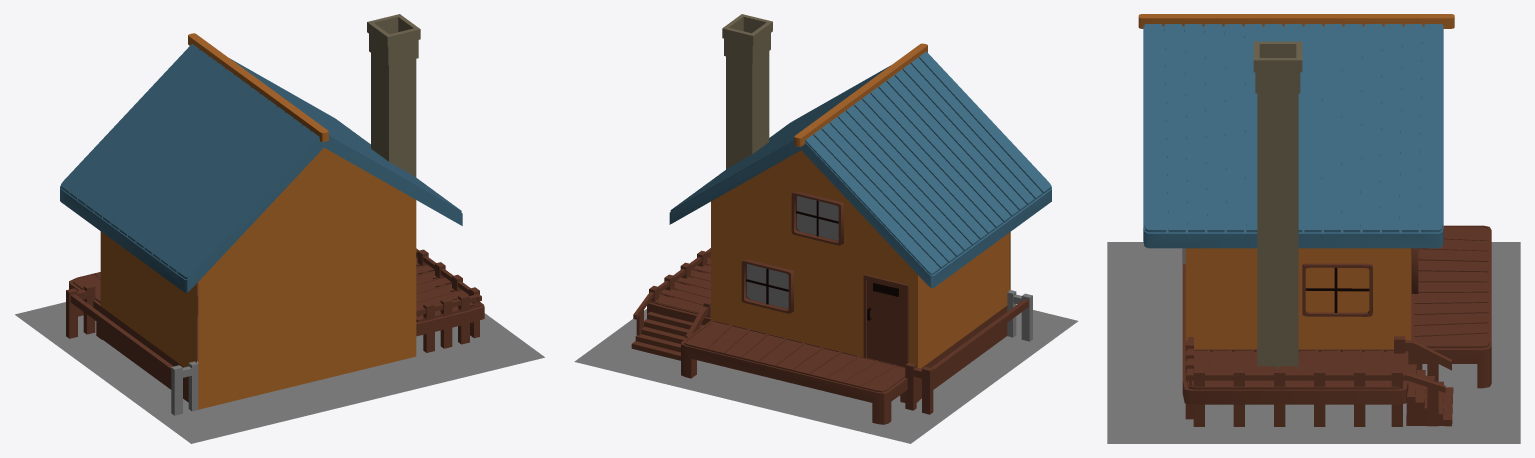
Rendered from House-1.fbx.
The picture shows the model from 3 angles, left to right: view 1: azimuth 30°, elevation 25°; view 2: azimuth 150°, elevation 25°; view 3: azimuth 270°, elevation 25°; orthographic projection. The views are drawn at different scales.
Parts seen in each view (by area): view 1: Box001, Box002, Plane001, Object001, Box041, Box040, Box035, Box037, Box033; view 2: Box002, Object001, Plane001, Box001, Box041, Box003, Box007, Box046, StraightStair001, Box040, Box035, Box033 (+3 smaller); view 3: Box002, Plane001, Object001, Box001, Box041, Box040, StraightStair001, Box024, Box049, Box043, Box020, Box018 (+5 smaller).
Boxes of the visible parts, bbox=[...] form: Box001: bbox=[69, 147, 484, 409]; Box002: bbox=[60, 43, 462, 292]; Plane001: bbox=[15, 302, 544, 443]; Object001: bbox=[100, 231, 478, 367]; Box041: bbox=[367, 14, 420, 177]; Box040: bbox=[188, 33, 328, 142]; Box035: bbox=[70, 294, 173, 375]; Box037: bbox=[171, 365, 182, 415]; Box033: bbox=[66, 288, 77, 338]; Box002: bbox=[669, 51, 1051, 288]; Object001: bbox=[650, 150, 1009, 368]; Plane001: bbox=[574, 309, 1078, 443]; Box001: bbox=[647, 232, 1010, 424]; Box041: bbox=[722, 14, 772, 169]; Box003: bbox=[863, 274, 908, 366]; Box007: bbox=[791, 191, 843, 245]; Box046: bbox=[741, 259, 793, 313]; StraightStair001: bbox=[631, 311, 703, 360]; Box040: bbox=[794, 43, 927, 146]; Box035: bbox=[931, 299, 1028, 376]; Box033: bbox=[922, 366, 933, 414]; Box002: bbox=[1143, 24, 1443, 248]; Plane001: bbox=[1107, 242, 1520, 443]; Object001: bbox=[1185, 248, 1411, 386]; Box001: bbox=[1182, 225, 1491, 404]; Box041: bbox=[1253, 41, 1302, 369]; Box040: bbox=[1138, 14, 1454, 28]; StraightStair001: bbox=[1406, 364, 1453, 426]; Box024: bbox=[1186, 373, 1445, 392]; Box049: bbox=[1302, 263, 1372, 316]; Box043: bbox=[1405, 340, 1451, 370]; Box020: bbox=[1391, 369, 1402, 426]; Box018: bbox=[1314, 369, 1325, 426].
Size of the model in its own units: 420 by 338 by 364.
